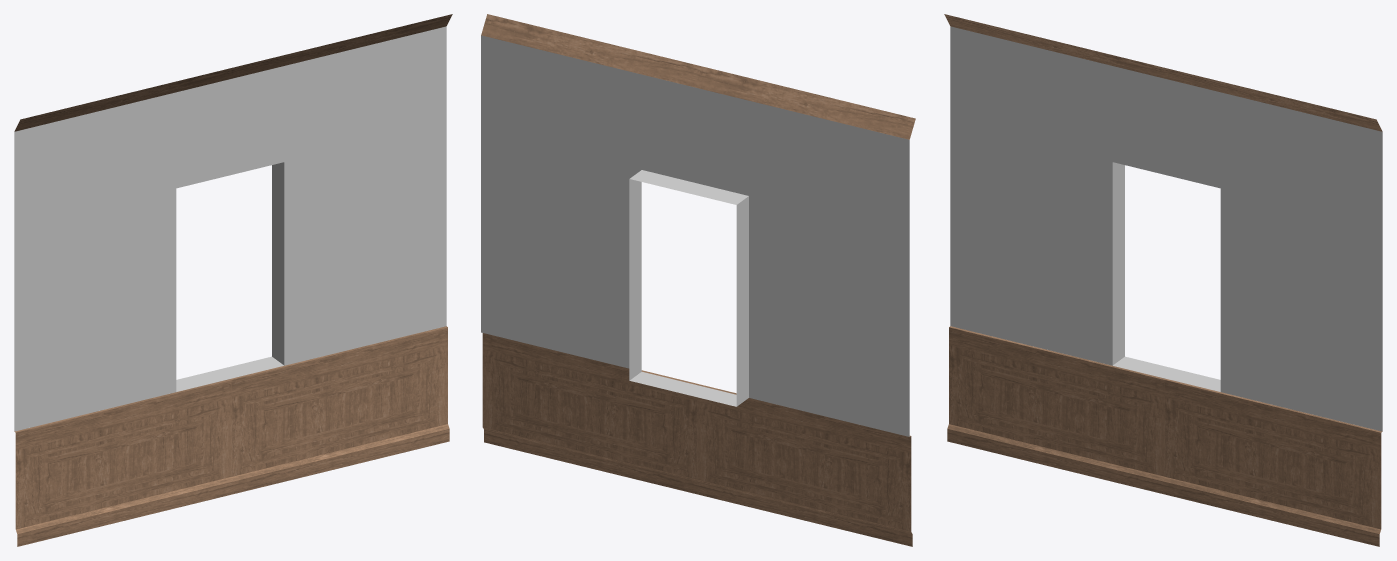
File: WallInt2Window1A.fbx
The picture shows the model from 3 angles, left to right: view 1: azimuth 30°, elevation 25°; view 2: azimuth 150°, elevation 25°; view 3: azimuth 330°, elevation 25°; orthographic projection.
Parts seen in each view (by area): view 1: WallInt2Window1A; view 2: WallInt2Window1A; view 3: WallInt2Window1A.
Part boxes in pixels (x1,y1,x2,y2): WallInt2Window1A: (14, 14, 452, 546); WallInt2Window1A: (481, 14, 915, 546); WallInt2Window1A: (944, 14, 1382, 546).
Bounding box in the file's own units: 400 × 380 × 30.
